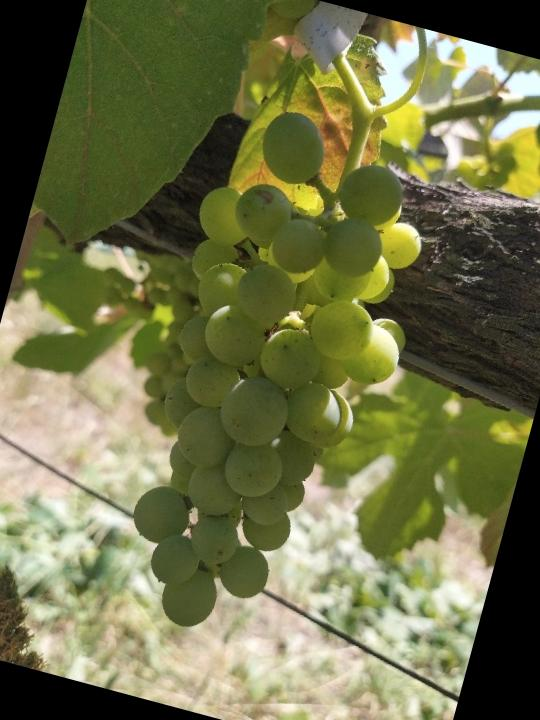grape: (94, 95, 459, 666)
